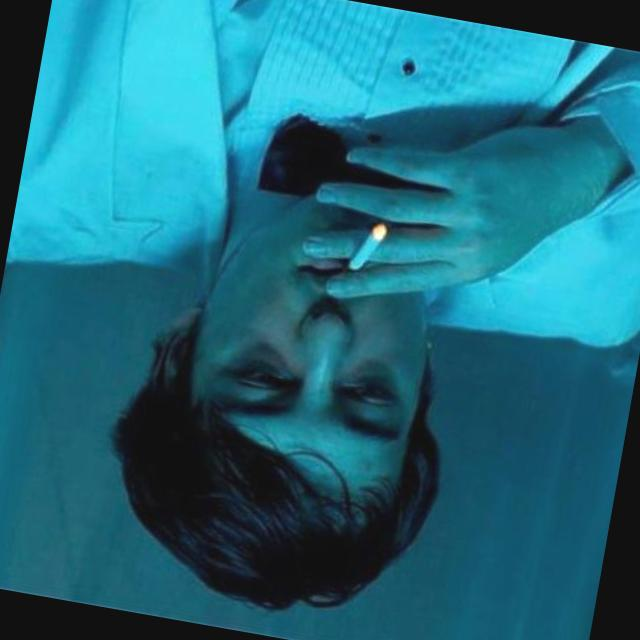smoke: (324, 183, 424, 294)
